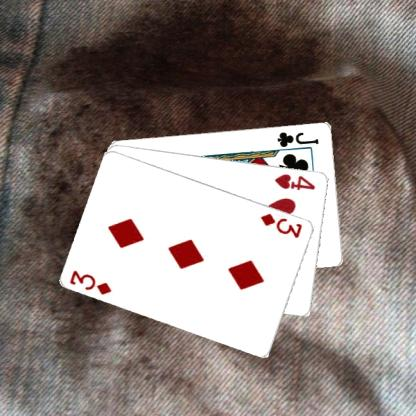3D: (258, 210, 304, 240), (67, 267, 113, 296)
4H: (272, 171, 317, 191)
JC: (275, 128, 320, 148)
